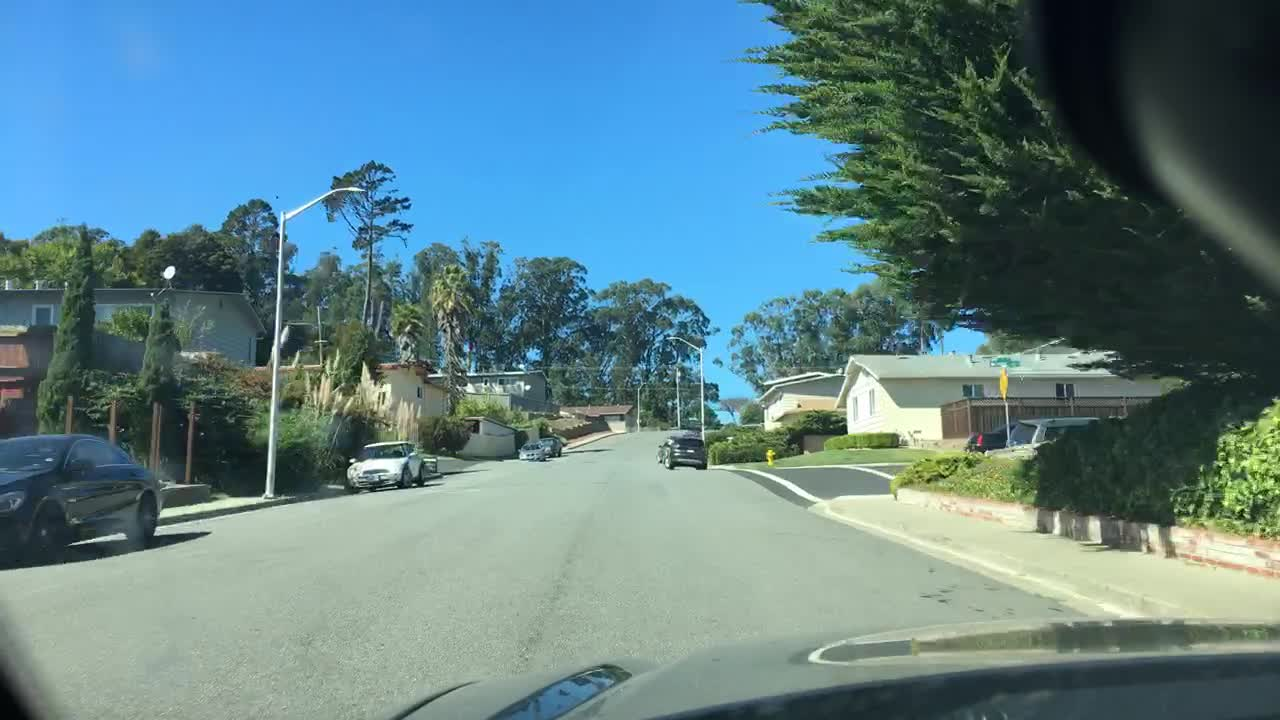car: (0, 434, 161, 559), (1004, 417, 1132, 455), (344, 440, 430, 491), (654, 437, 708, 471), (965, 429, 1019, 453), (538, 434, 563, 461), (519, 442, 541, 464)
traffic sign: (995, 373, 1012, 398), (990, 358, 1019, 366)
